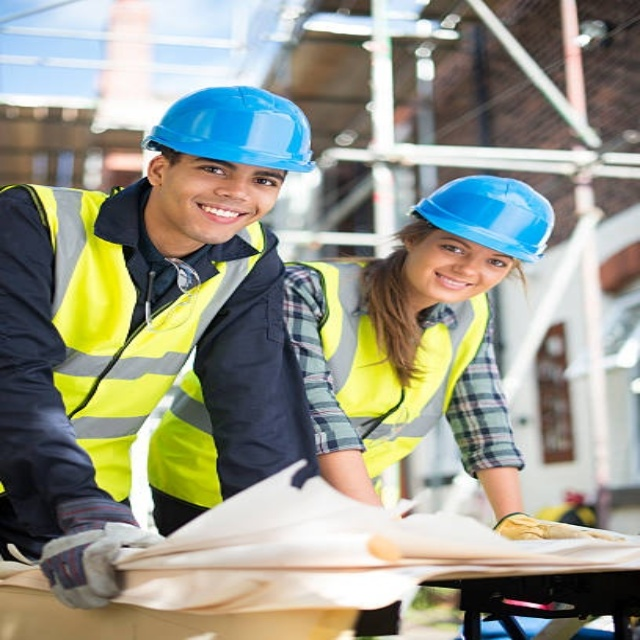Guantes: (38, 518, 162, 611), (493, 512, 627, 542)
Sin_gafas: (184, 157, 281, 192), (431, 235, 518, 274)
Sin_mascara: (184, 199, 254, 234), (420, 269, 483, 300)
